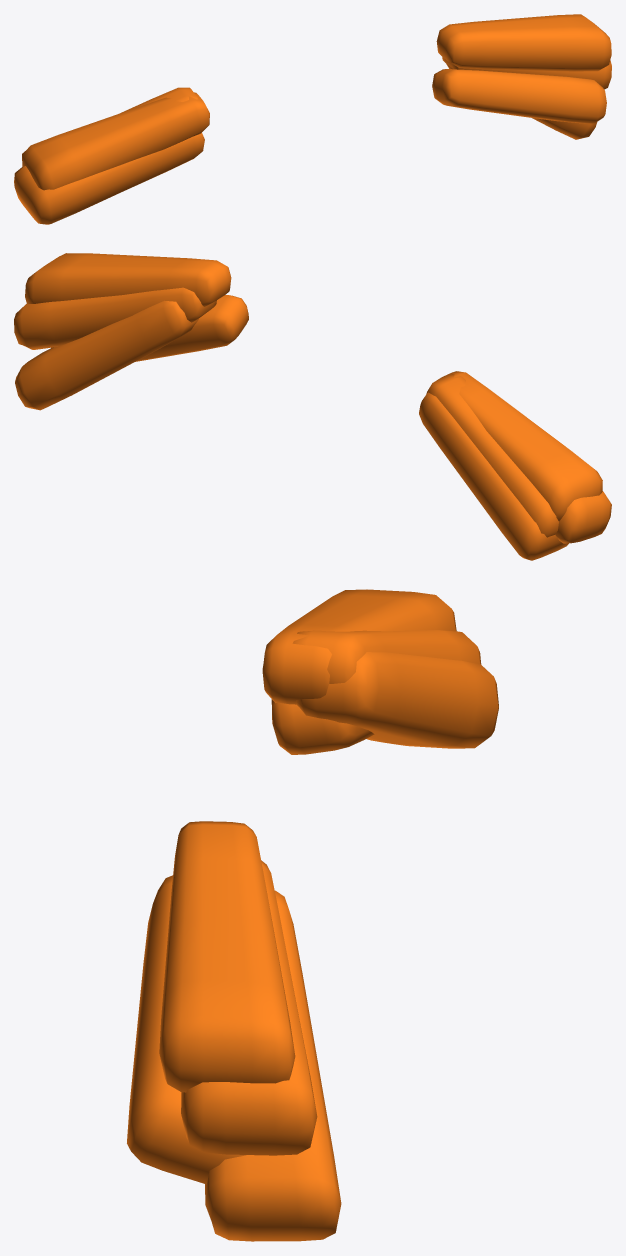
Rendered from Arms.glb.
3 views of the same model, one above another, from view 1: azimuth 30°, elevation 25°; view 2: azimuth 150°, elevation 25°; view 3: azimuth 270°, elevation 25° (orthographic). The views are drawn at different scales.
Visible parts, largest first — view 1: 1Right2, 1Left2, 1Left1, 1Right1, 1Left3, 1Left4, 1Right3; view 2: 1Left4, 1Left2, 1Right2, 1Right4, 1Left3, 1Right3, 1Left1, 1Right1; view 3: 1Left2, 1Left4, 1Right4, 1Left3, 1Left1, 1Right2, 1Right3, 1Right1.
Part boxes in pixels (x1=…): 1Right2: x1=22, y1=92, x2=209, y2=190; 1Left2: x1=436, y1=14, x2=611, y2=71; 1Left1: x1=432, y1=69, x2=606, y2=123; 1Right1: x1=14, y1=133, x2=204, y2=224; 1Left3: x1=442, y1=57, x2=611, y2=89; 1Left4: x1=446, y1=64, x2=597, y2=139; 1Right3: x1=121, y1=87, x2=197, y2=112; 1Left4: x1=15, y1=300, x2=198, y2=410; 1Left2: x1=25, y1=253, x2=231, y2=306; 1Right2: x1=438, y1=371, x2=602, y2=521; 1Right4: x1=419, y1=392, x2=568, y2=560; 1Left3: x1=14, y1=287, x2=216, y2=349; 1Right3: x1=426, y1=374, x2=558, y2=537; 1Left1: x1=51, y1=295, x2=248, y2=361; 1Right1: x1=555, y1=491, x2=611, y2=543; 1Left2: x1=159, y1=821, x2=295, y2=1092; 1Left4: x1=205, y1=890, x2=341, y2=1241; 1Right4: x1=296, y1=652, x2=498, y2=748; 1Left3: x1=181, y1=860, x2=317, y2=1155; 1Left1: x1=127, y1=875, x2=246, y2=1184; 1Right2: x1=262, y1=589, x2=456, y2=704; 1Right3: x1=292, y1=630, x2=481, y2=683; 1Right1: x1=271, y1=699, x2=374, y2=754.
Bounding box in the file's own units: 4.27 × 1.08 × 1.27.
